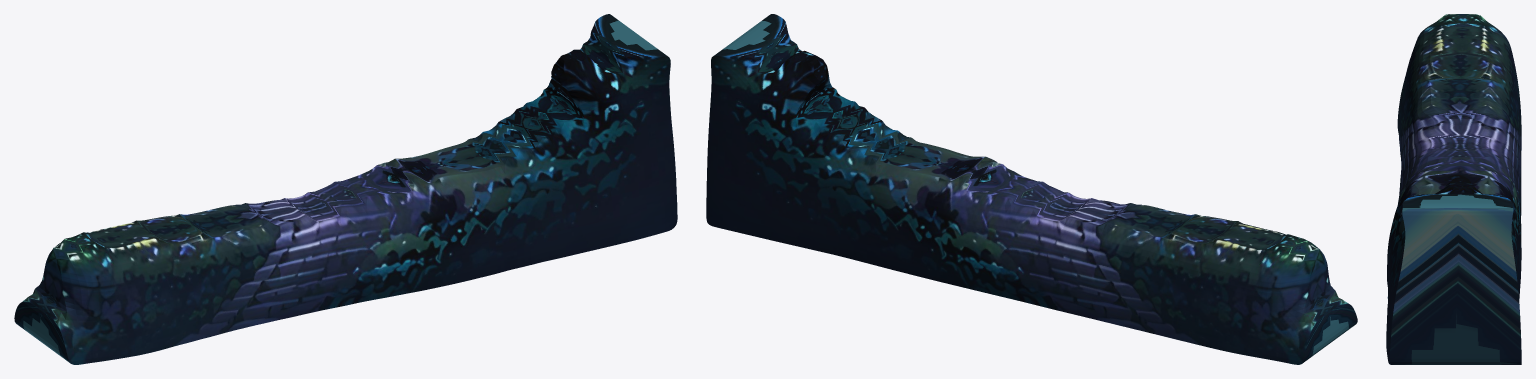
Rendered from ground_right.glb.
3 views of the same model, side by side, from view 1: azimuth 30°, elevation 25°; view 2: azimuth 150°, elevation 25°; view 3: azimuth 270°, elevation 25° (orthographic). The views are drawn at different scales.
Visible parts, largest first — view 1: geometry_0; view 2: geometry_0; view 3: geometry_0.
Part boxes in pixels (x1,y1,x2,y2): geometry_0: (14,14,677,364); geometry_0: (706,14,1357,364); geometry_0: (1386,14,1521,364).
Size of the model in its own units: 20.59 by 5.54 by 4.22.
Materials: 1 (1 with a texture image).
